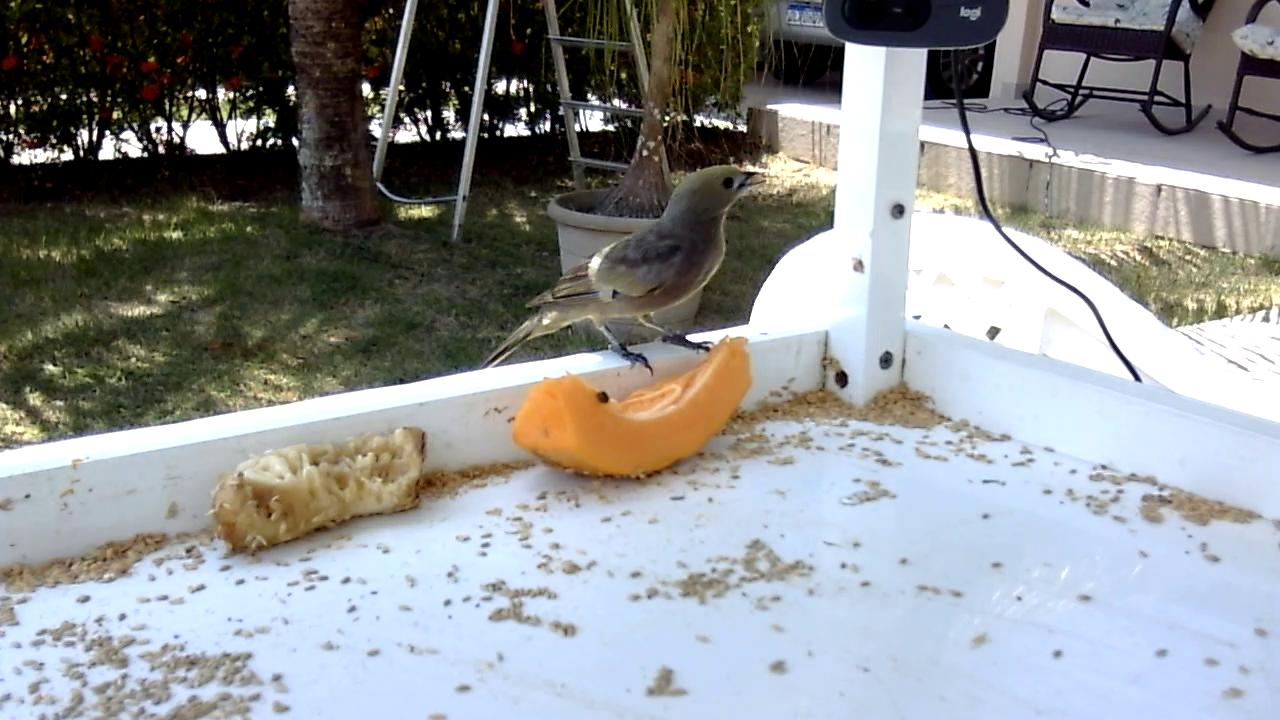sanhaco_do_coqueiro: (480, 163, 769, 381)
